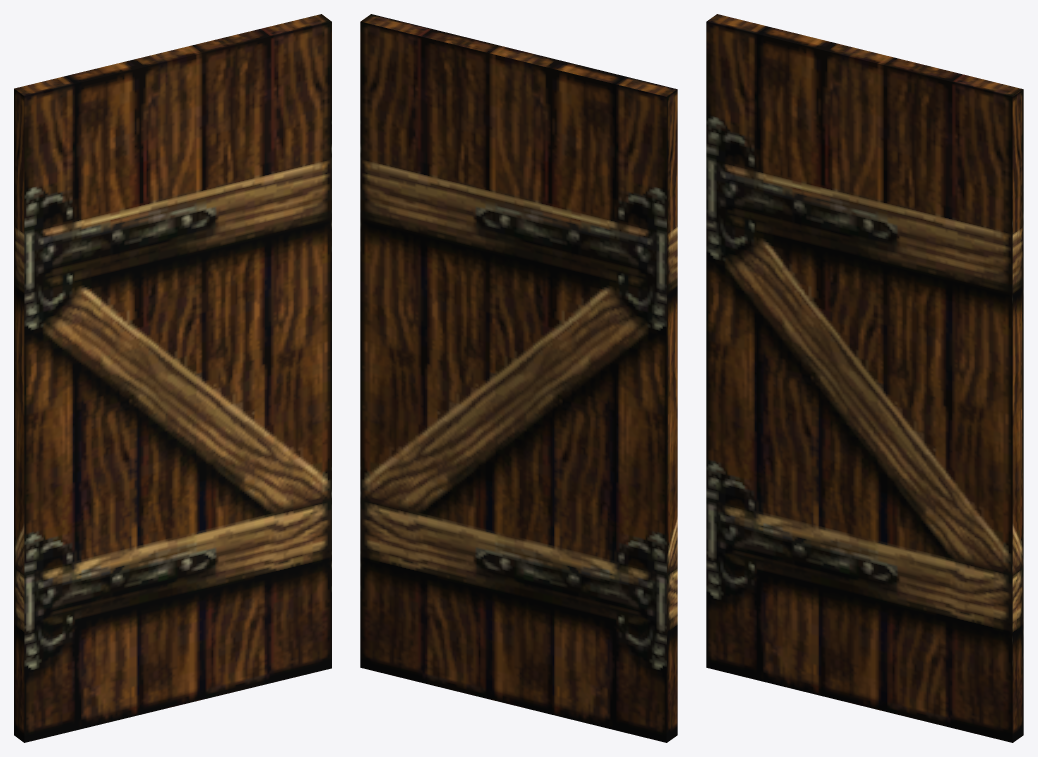
File: LAKETOWN_WAREHOUSE3_ANIM_WH3_DOORS_87__AI.fbx
3 renders of one model, left to right at view 1: azimuth 30°, elevation 25°; view 2: azimuth 150°, elevation 25°; view 3: azimuth 330°, elevation 25°, orthographic.
Visible parts, largest first — view 1: LAKETOWN_WAREHOUSE3_ANIM_WH3_DOORS_87__AI; view 2: LAKETOWN_WAREHOUSE3_ANIM_WH3_DOORS_87__AI; view 3: LAKETOWN_WAREHOUSE3_ANIM_WH3_DOORS_87__AI.
Boxes of the visible parts, x1,y1,x2,y2 form: LAKETOWN_WAREHOUSE3_ANIM_WH3_DOORS_87__AI: (14, 14, 331, 742); LAKETOWN_WAREHOUSE3_ANIM_WH3_DOORS_87__AI: (360, 14, 677, 742); LAKETOWN_WAREHOUSE3_ANIM_WH3_DOORS_87__AI: (706, 14, 1023, 742).
Size of the model in its own units: 13649 by 27436 by 847.
1 material, 1 textured.
